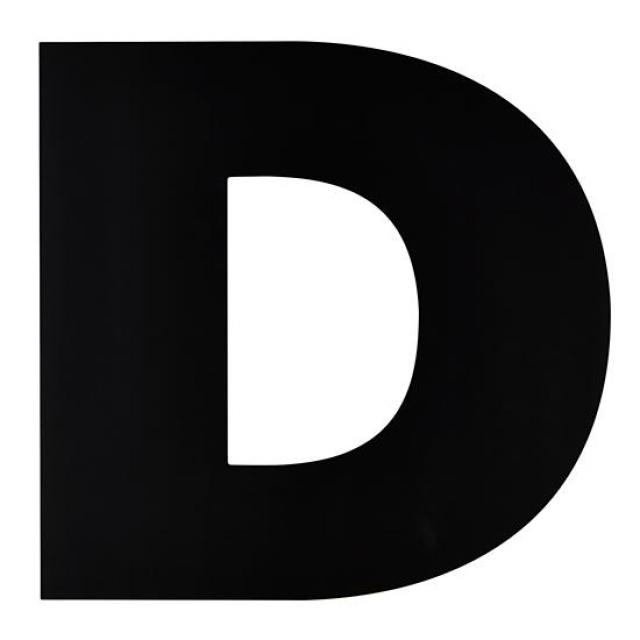D: (19, 19, 610, 630)
